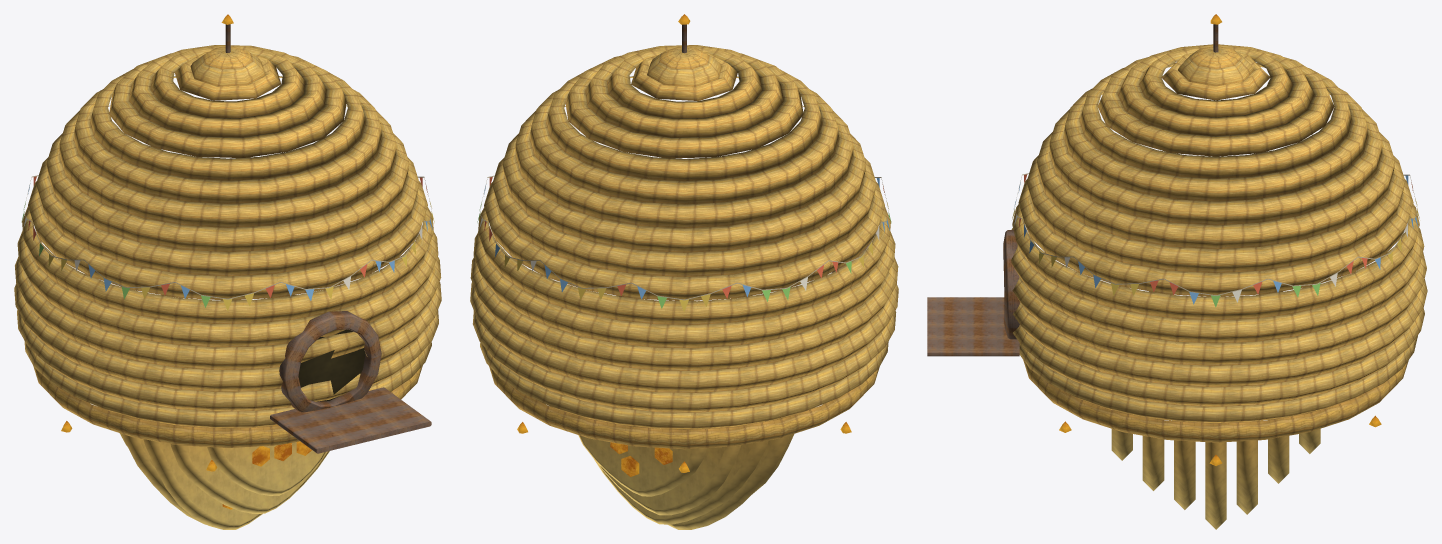
The model's file is hive-lod1.glb.
3 renders of one model, left to right at view 1: azimuth 30°, elevation 25°; view 2: azimuth 150°, elevation 25°; view 3: azimuth 270°, elevation 25°, orthographic.
Visible parts, largest first — view 1: Exterior_Mesh; view 2: Exterior_Mesh; view 3: Exterior_Mesh.
Part boxes in pixels (bbox=[...]): Exterior_Mesh: bbox=[14, 14, 441, 529]; Exterior_Mesh: bbox=[470, 14, 898, 529]; Exterior_Mesh: bbox=[927, 14, 1427, 529].
Size of the model in its own units: 14.22 by 18.9 by 16.81.
Materials: 5 (5 with a texture image).
